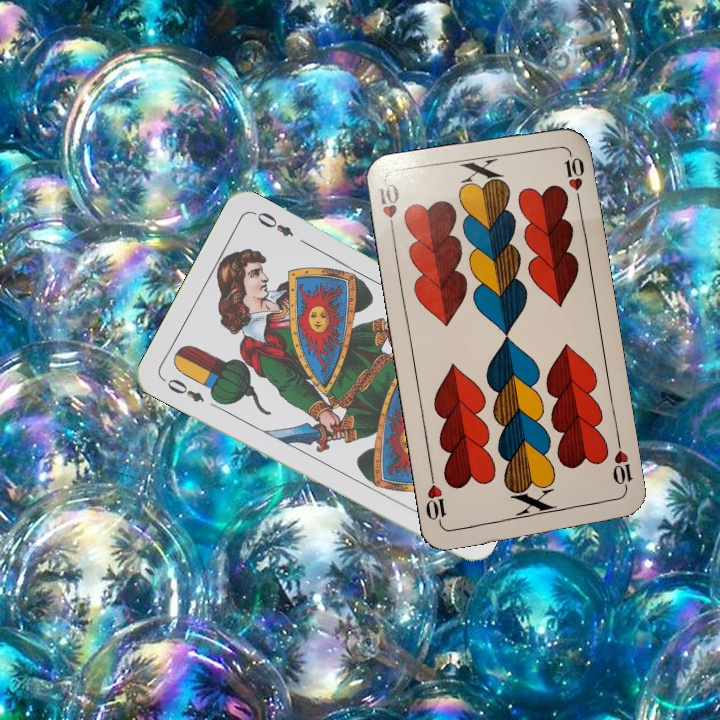EO: (163, 374, 207, 405)
H10: (373, 179, 402, 238), (608, 436, 635, 495)
